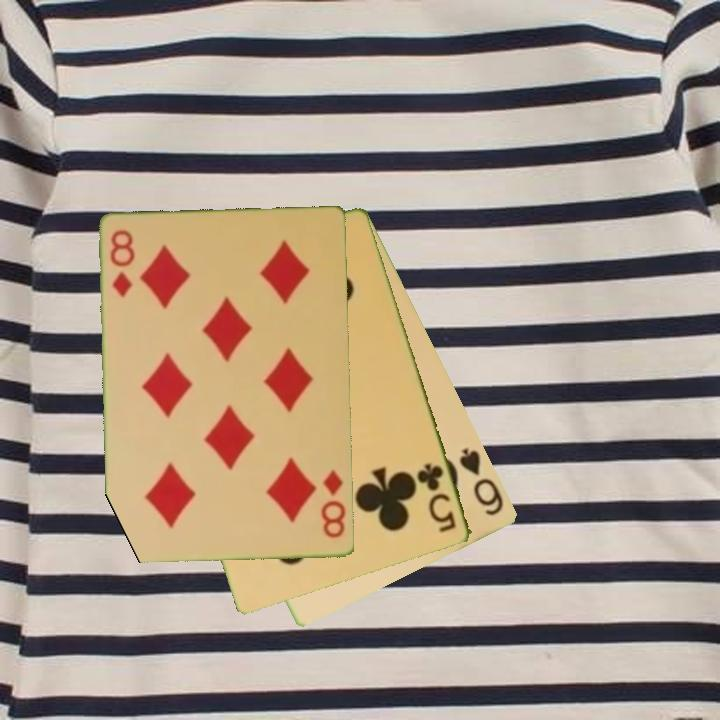5c: (413, 460, 460, 536)
6s: (456, 444, 507, 519)
8d: (318, 466, 349, 542), (107, 227, 138, 301)
